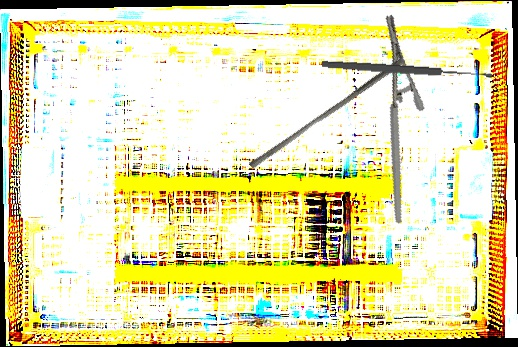Needle Holder: (328, 11, 459, 225)
Pusher: (248, 51, 405, 175)
Surgical Spoon: (321, 59, 493, 81)
